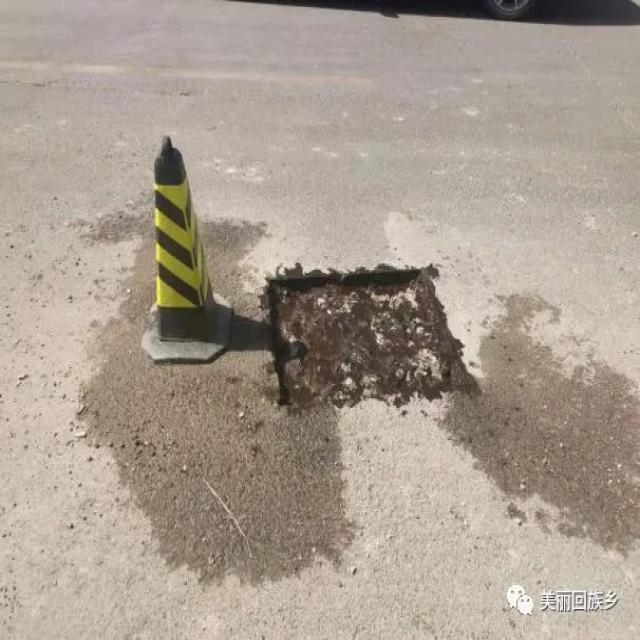Pothole: (255, 262, 493, 409)
